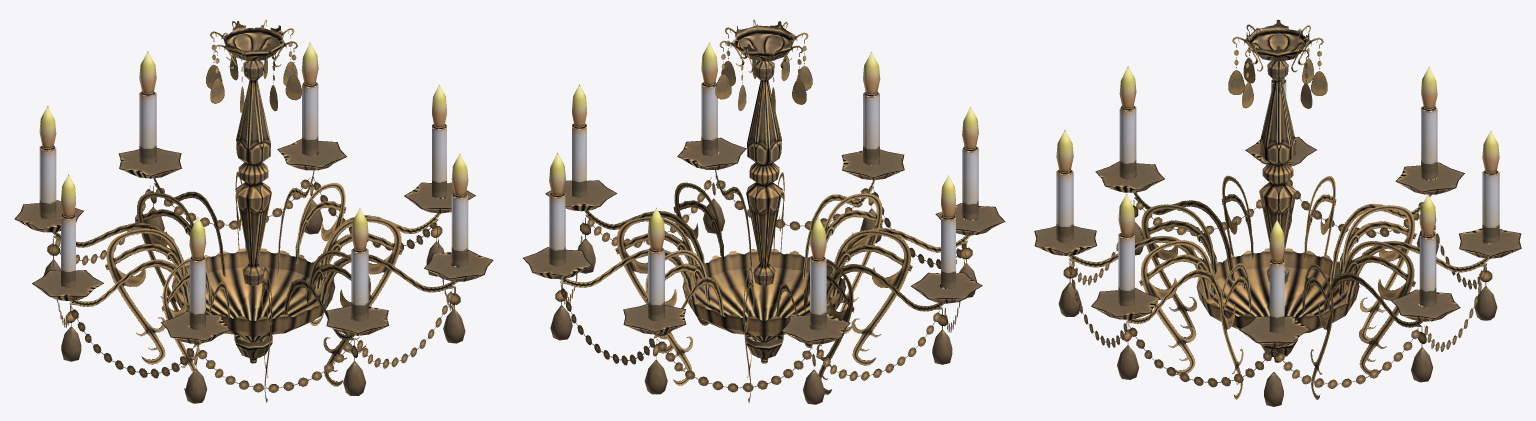
The model's file is Chandelier03.FBX.
The picture shows the model from 3 angles, left to right: view 1: azimuth 30°, elevation 25°; view 2: azimuth 150°, elevation 25°; view 3: azimuth 270°, elevation 25°; orthographic projection.
Visible parts, largest first — view 1: Chandelier03; view 2: Chandelier03; view 3: Chandelier03.
Boxes of the visible parts, x1=… form: Chandelier03: x1=14, y1=19, x2=493, y2=403; Chandelier03: x1=523, y1=19, x2=1004, y2=404; Chandelier03: x1=1034, y1=19, x2=1521, y2=406.
Size of the model in its own units: 158 by 158 by 118.
